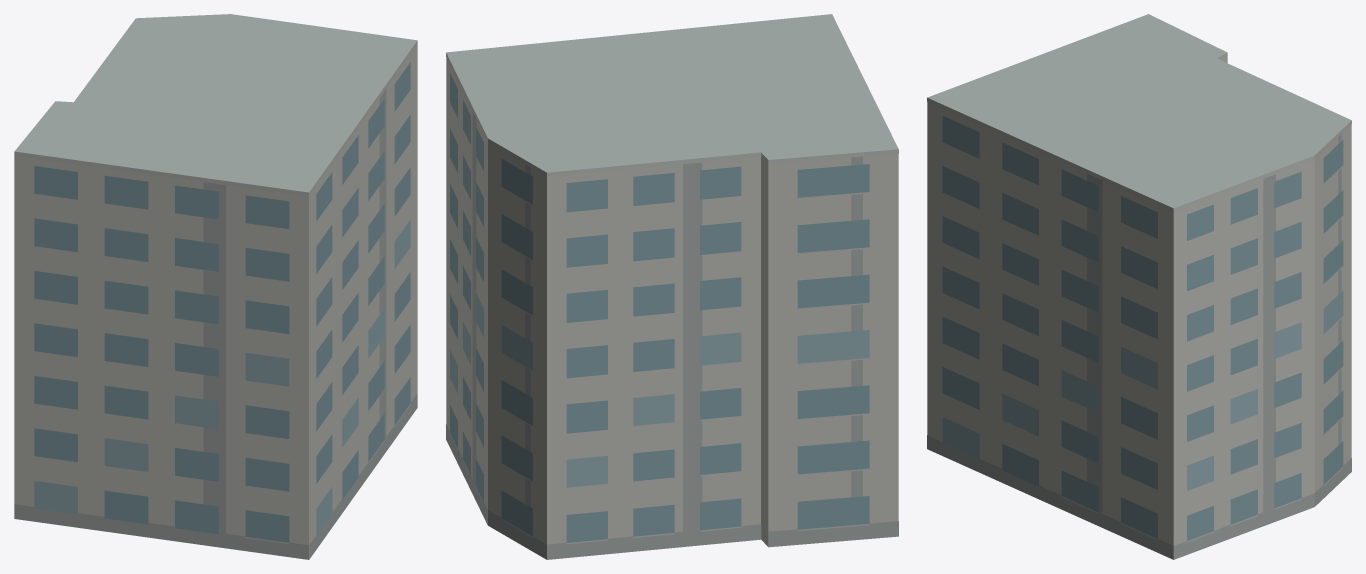
The model's file is survey-upis-32970606.glb.
The picture shows the model from 3 angles, left to right: view 1: azimuth 30°, elevation 25°; view 2: azimuth 150°, elevation 25°; view 3: azimuth 270°, elevation 25°; orthographic projection. The views are drawn at different scales.
Visible parts, largest first — view 1: survey-upis-32970606.tmp; view 2: survey-upis-32970606.tmp; view 3: survey-upis-32970606.tmp.
Boxes of the visible parts, x1,y1,x2,y2 form: survey-upis-32970606.tmp: (14,14,417,559); survey-upis-32970606.tmp: (446,14,898,559); survey-upis-32970606.tmp: (927,14,1351,559).
Size of the model in its own units: 24.68 by 20.8 by 22.78.
